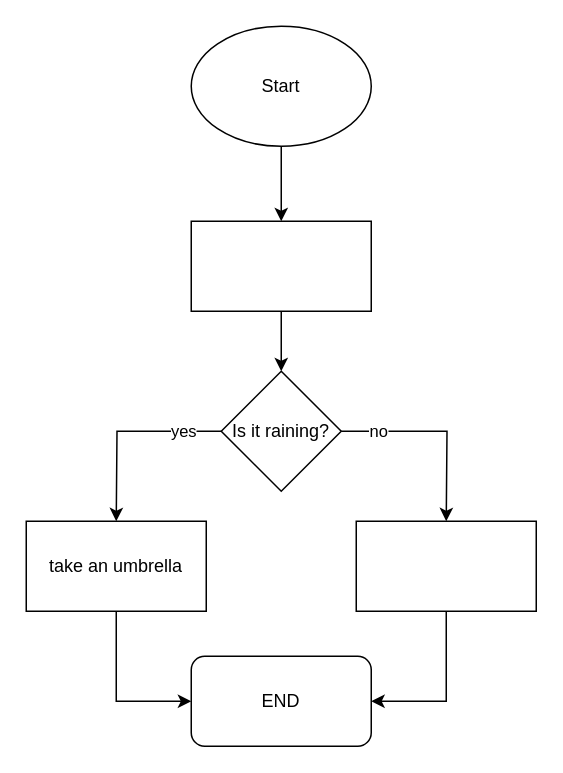
Some shapes in this 563 by 773 pixel diagram are drawn without their labels. The centre of each missing label's shape, as x and y in pixels:
"Alarm rings" goes at [280,265].
"leave home" goes at [445,565].
